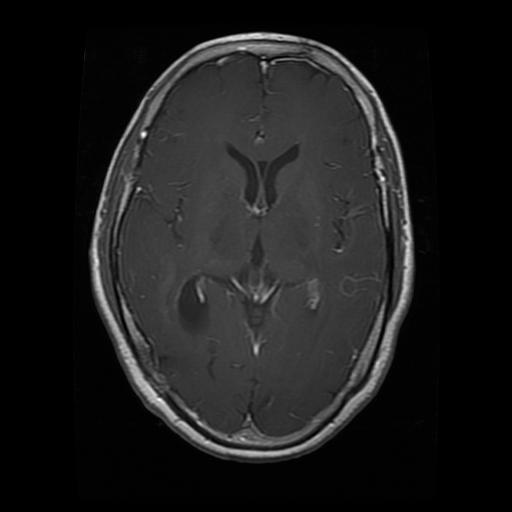Gliomia_tumour: (175, 274, 207, 335)
